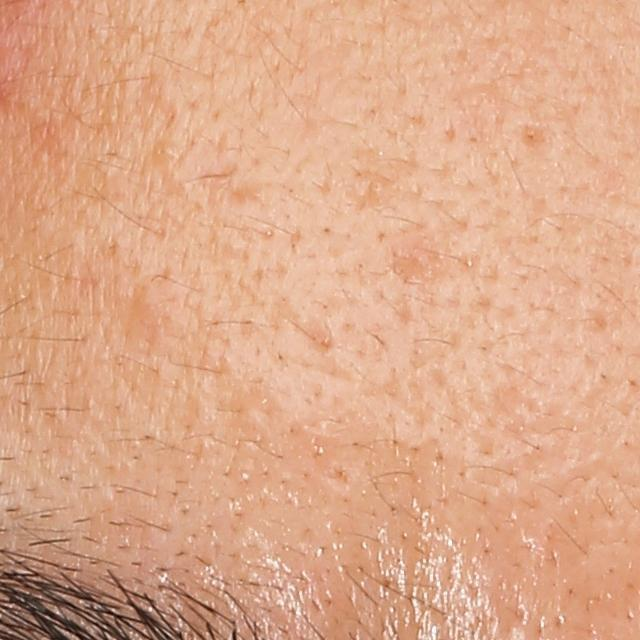atrophic_scar: (515, 123, 553, 154)
comedo: (130, 283, 174, 333), (151, 135, 182, 167)
